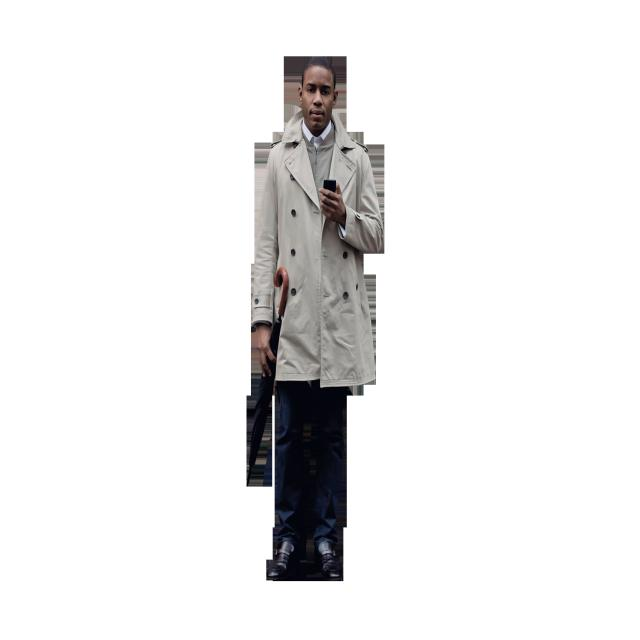jovem: (250, 56, 390, 589)
